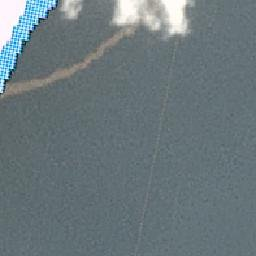debris: (4, 80, 42, 96), (42, 67, 76, 82), (107, 26, 138, 42), (93, 37, 106, 60), (78, 49, 91, 71)
